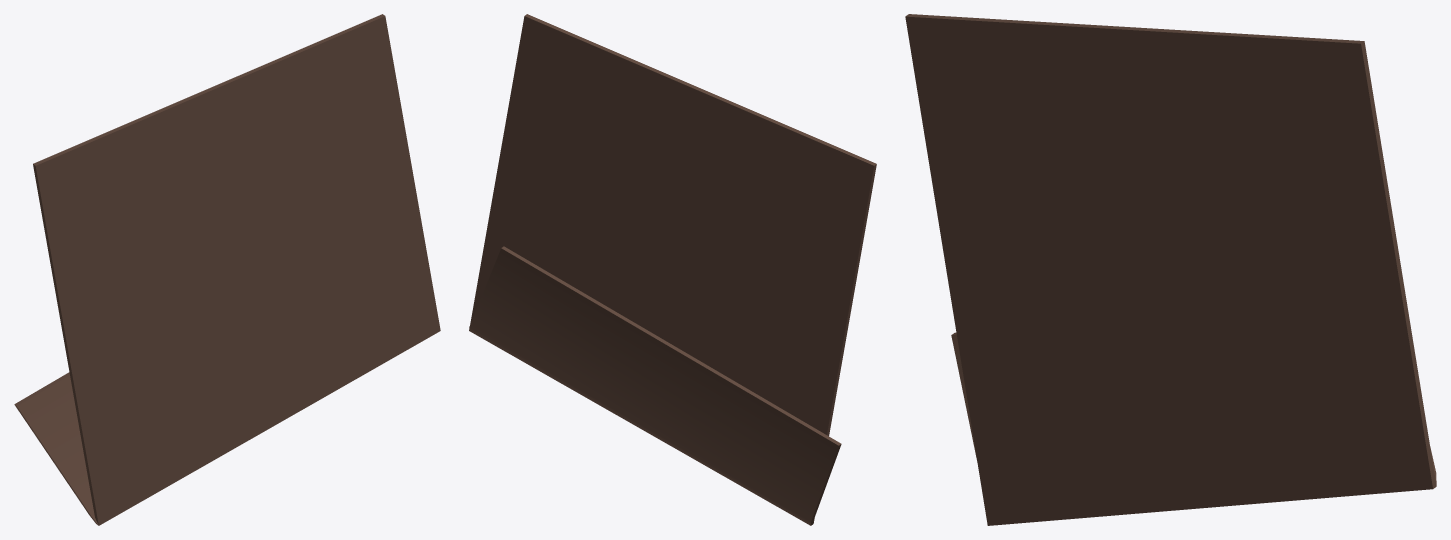
File: lixa.fbx
The picture shows the model from 3 angles, left to right: view 1: azimuth 30°, elevation 25°; view 2: azimuth 150°, elevation 25°; view 3: azimuth 330°, elevation 25°; orthographic projection. The views are drawn at different scales.
Parts seen in each view (by area): view 1: Lixa; view 2: Lixa; view 3: Lixa.
Part boxes in pixels (x1=…): Lixa: x1=14, y1=14, x2=440, y2=525; Lixa: x1=469, y1=14, x2=876, y2=525; Lixa: x1=905, y1=14, x2=1436, y2=525.
Size of the model in its own units: 18.25 by 18.94 by 2.32.
